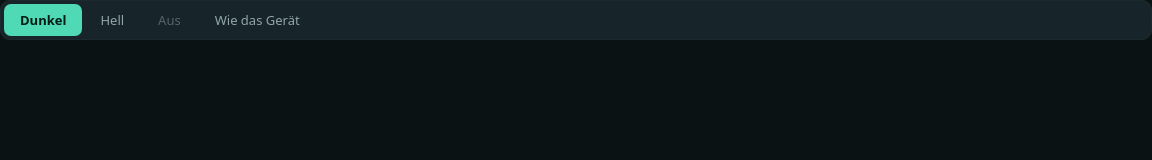
Test: Eingaben › SegmentedControl wählt mit den Pfeiltasten wie Optionsfelder
Click the radio button labelled "Dunkel" at (43, 20), box [4,4,82,36]
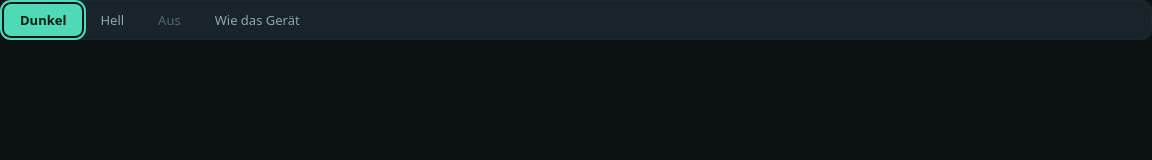
Press Arrowright
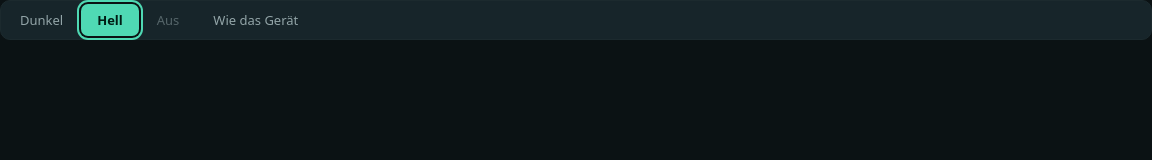
Expected: the radio button labelled "Hell" is checked, [81,4,139,36]
Press Arrowright
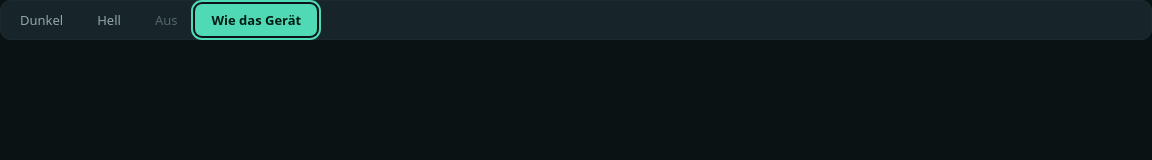
Expected: the radio button labelled "Wie das Gerät" is checked, [196,4,317,36]
Press Arrowright
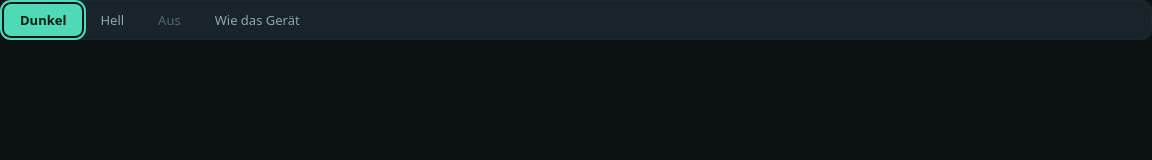
Expected: the radio button labelled "Dunkel" is checked, [4,4,82,36]
Press Arrowleft
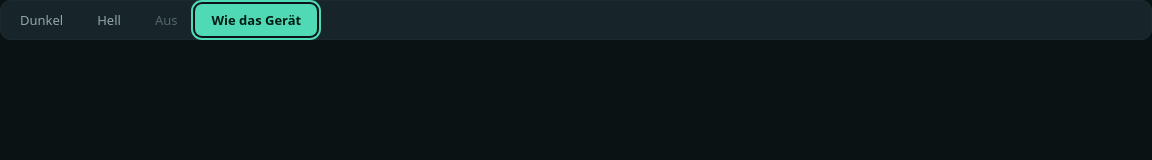
Press Home
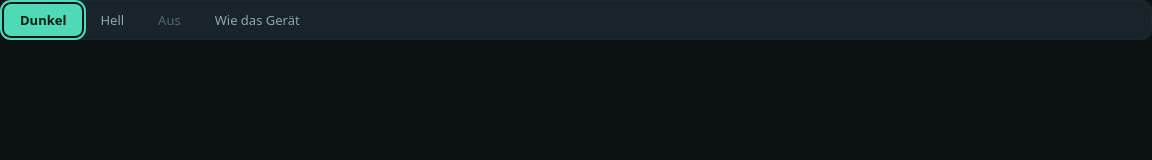
Expected: the radio button labelled "Dunkel" is checked, [4,4,82,36]
